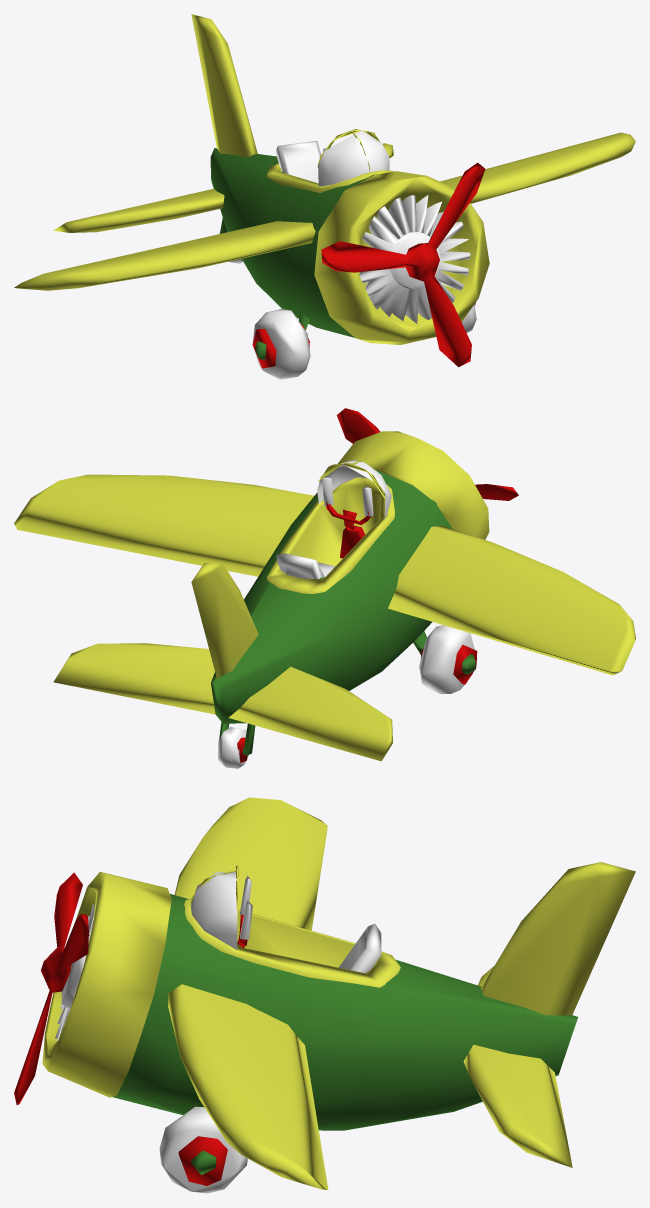
The model's file is plane_verde_LOD1.fbx.
3 views of the same model, one above another, from view 1: azimuth 30°, elevation 25°; view 2: azimuth 150°, elevation 25°; view 3: azimuth 270°, elevation 25° (orthographic). The views are drawn at different scales.
Visible parts, largest first — view 1: Object014; view 2: Object014; view 3: Object014.
Boxes of the visible parts, bbox=[...] form: Object014: bbox=[14, 14, 635, 379]; Object014: bbox=[14, 408, 635, 768]; Object014: bbox=[14, 797, 635, 1193].
Bounding box in the file's own units: 87.52 × 30.66 × 62.38.
